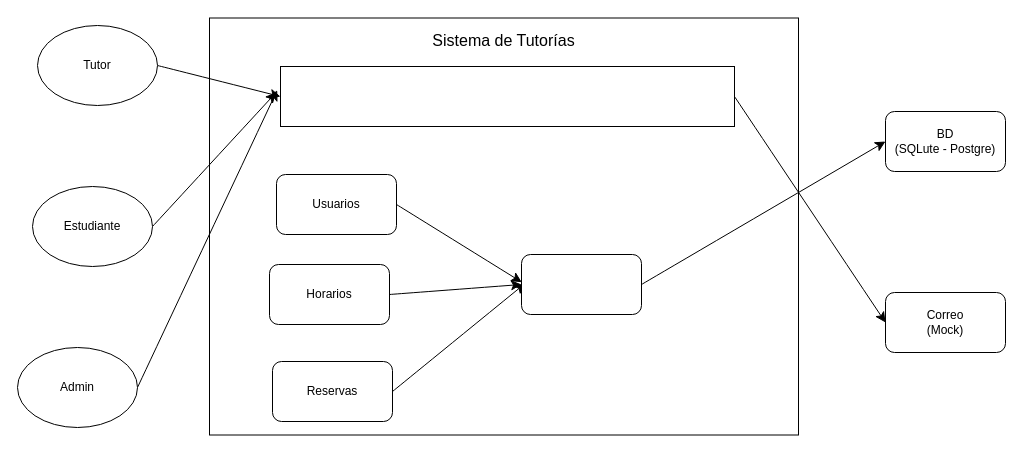
Some shapes in this 1023 by 452 pixel diagram are drawn without their labels. Each missing label, with the centre of its shape:
API/(FastAPI): (507,96)
Repo(Memoria): (581,284)
